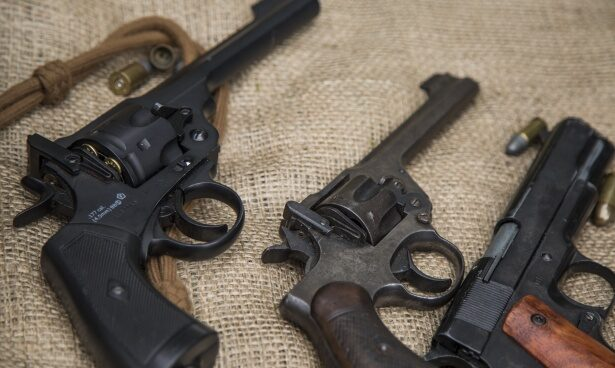Arma Real: (13, 1, 324, 368), (262, 69, 479, 357), (432, 115, 615, 367)
